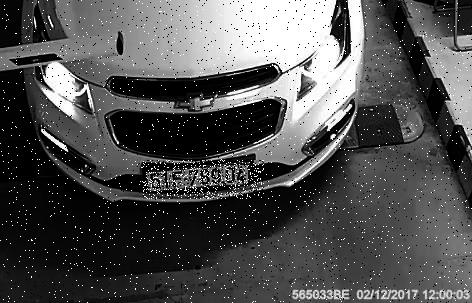License-plate: (145, 161, 266, 200)
